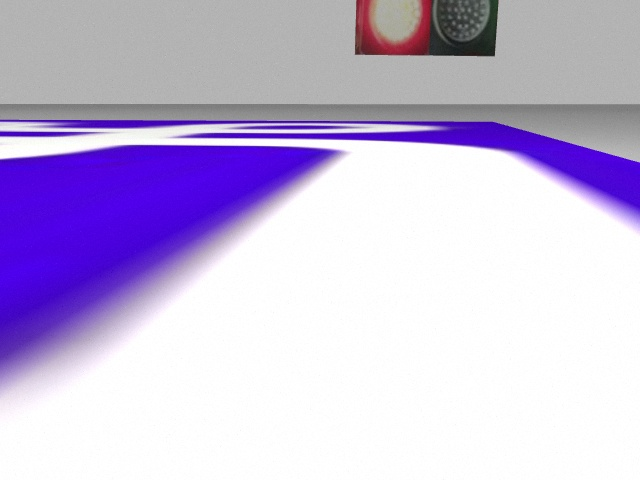red: (357, 1, 422, 50)
